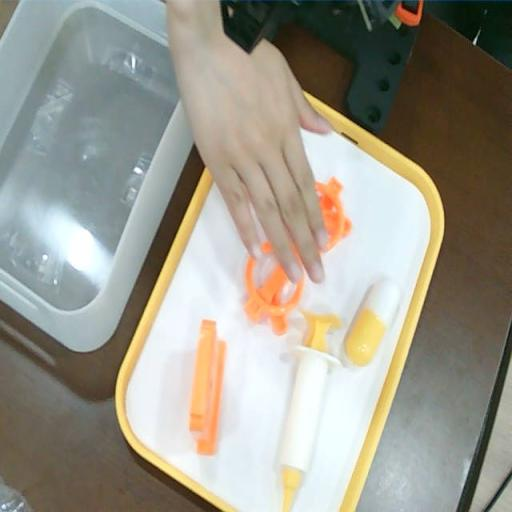hospital: (171, 36, 335, 286)
